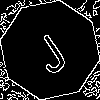J: (25, 25, 71, 77)
